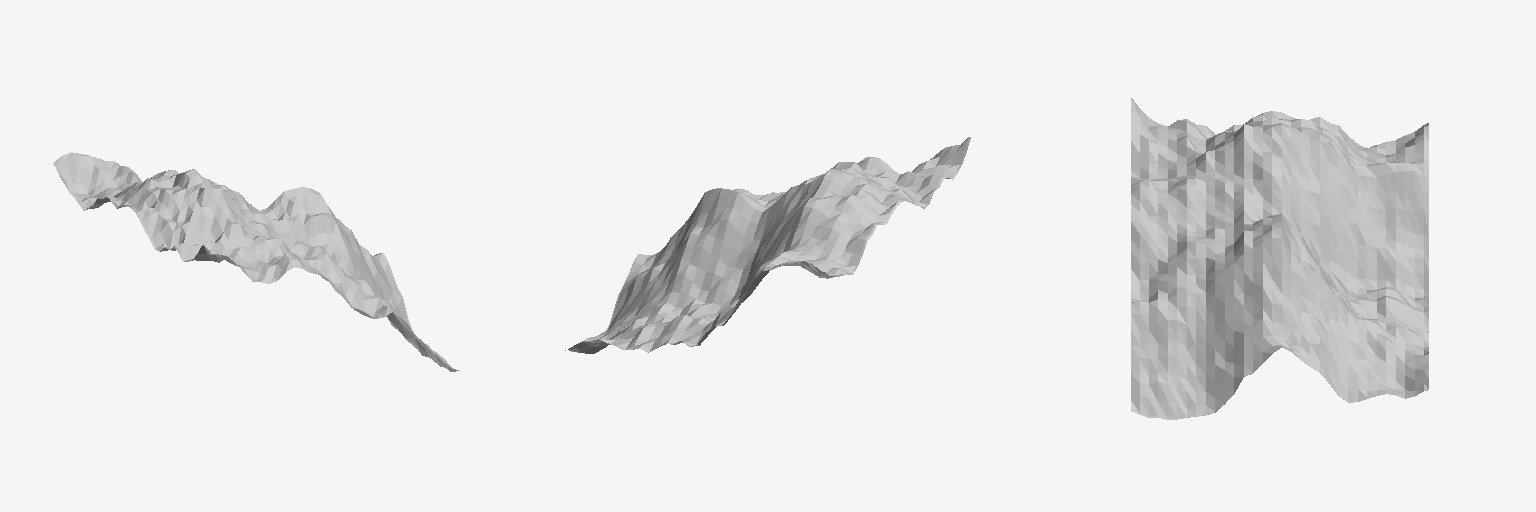
Rendered from terrain_2_0.obj.
The picture shows the model from 3 angles: view 1: azimuth 30°, elevation 25°; view 2: azimuth 150°, elevation 25°; view 3: azimuth 270°, elevation 25°; orthographic projection.
Visible parts, largest first — view 1: terrain_2_0_Plane.042; view 2: terrain_2_0_Plane.042; view 3: terrain_2_0_Plane.042.
Part boxes in pixels (left/top/right/bottom): terrain_2_0_Plane.042: left=53, top=152, right=458, bottom=371; terrain_2_0_Plane.042: left=565, top=137, right=970, bottom=353; terrain_2_0_Plane.042: left=1131, top=98, right=1428, bottom=419.
Bounding box in the file's own units: 32 × 24.04 × 32.